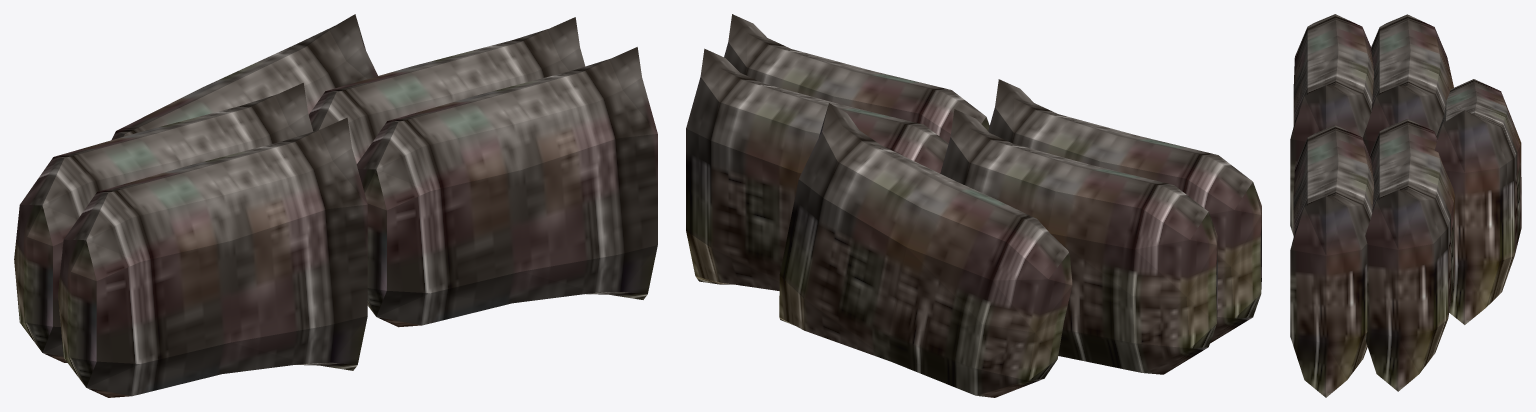
Rendered from JuteBag.fbx.
The picture shows the model from 3 angles, left to right: view 1: azimuth 30°, elevation 25°; view 2: azimuth 150°, elevation 25°; view 3: azimuth 270°, elevation 25°; orthographic projection. The views are drawn at different scales.
Visible parts, largest first — view 1: Component1; view 2: Component1; view 3: Component1.
Part boxes in pixels (bbox=[...]): Component1: bbox=[14, 14, 657, 397]; Component1: bbox=[686, 14, 1261, 397]; Component1: bbox=[1290, 14, 1521, 397].
Size of the model in its own units: 257 by 115 by 114.
